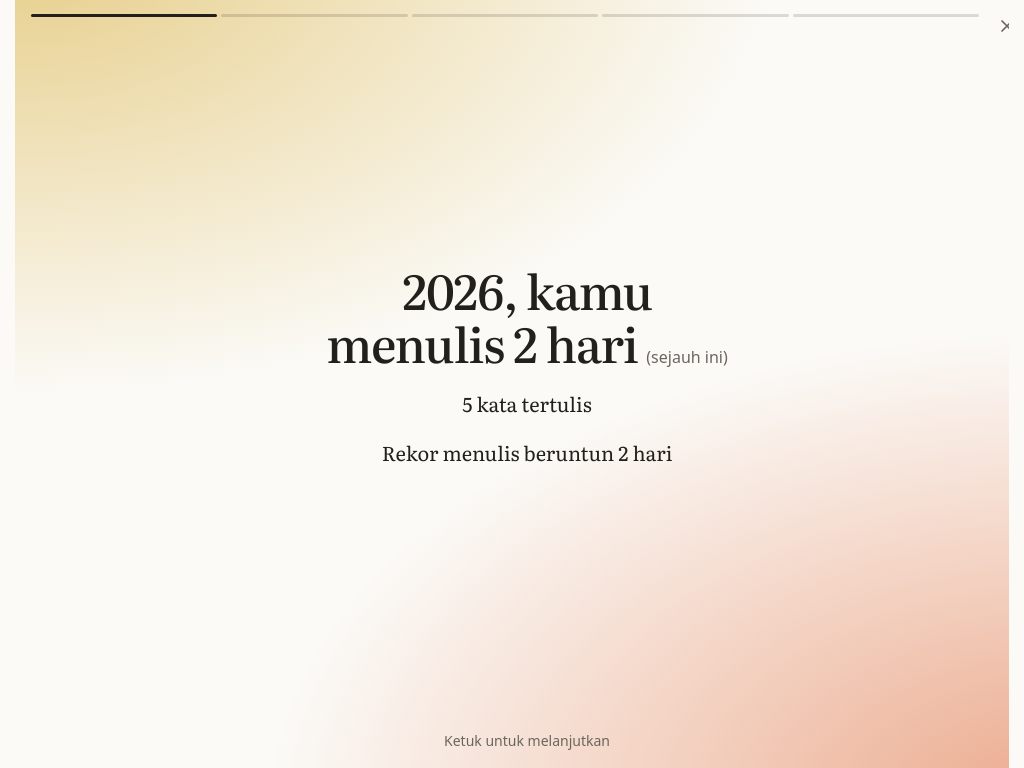
it: shows the error and retries
Check: the element named "1 dari 5" is shown, box [326, 254, 728, 468]
Press Arrowright Arrowright Arrowright
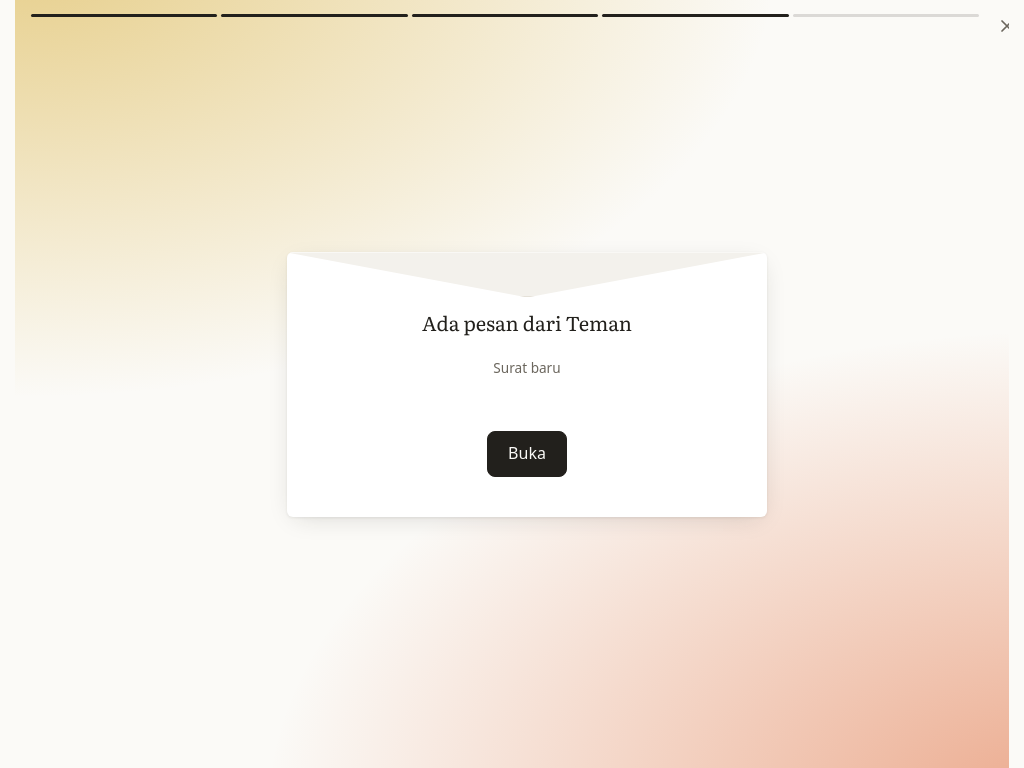
Check: the heading "Ada pesan dari Teman" is shown, box [422, 308, 632, 338]
Click the button "Buka" at (527, 454), box [487, 430, 567, 476]
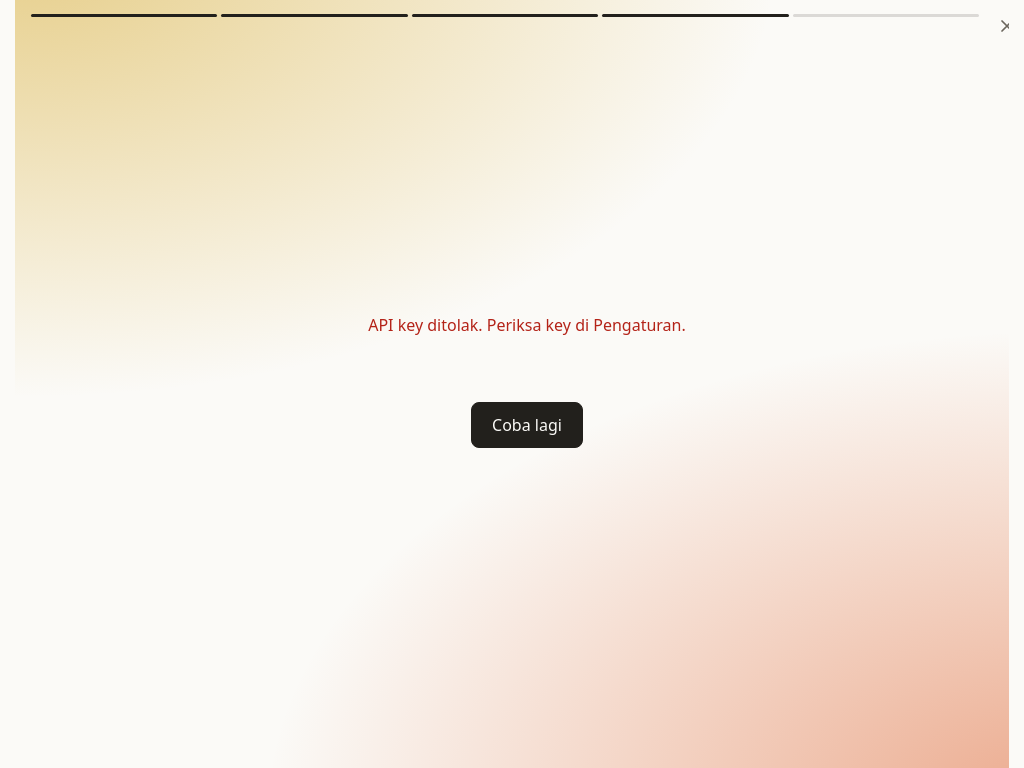
Check: the text "API key ditolak. Periksa key di Pengaturan." is shown, box [368, 313, 686, 338]
Click the button "Coba lagi" at (527, 425), box [471, 402, 583, 448]
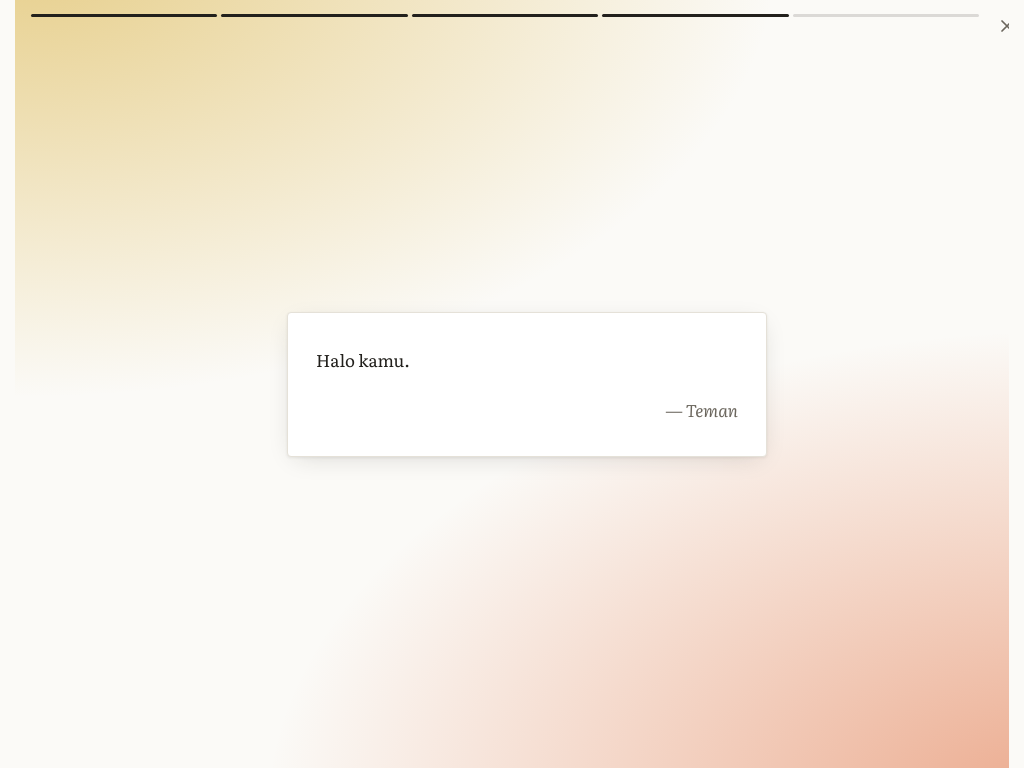
Check: the text "Halo kamu." is shown, box [316, 347, 410, 372]
